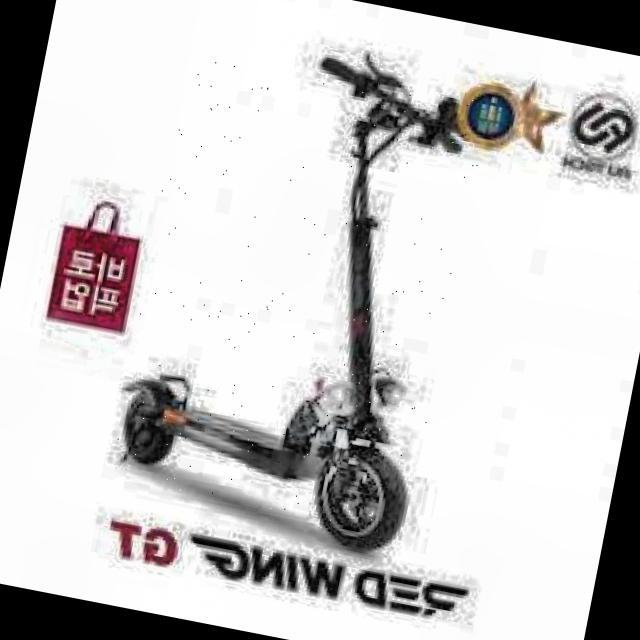bike: (121, 372, 409, 551), (284, 371, 408, 550)
